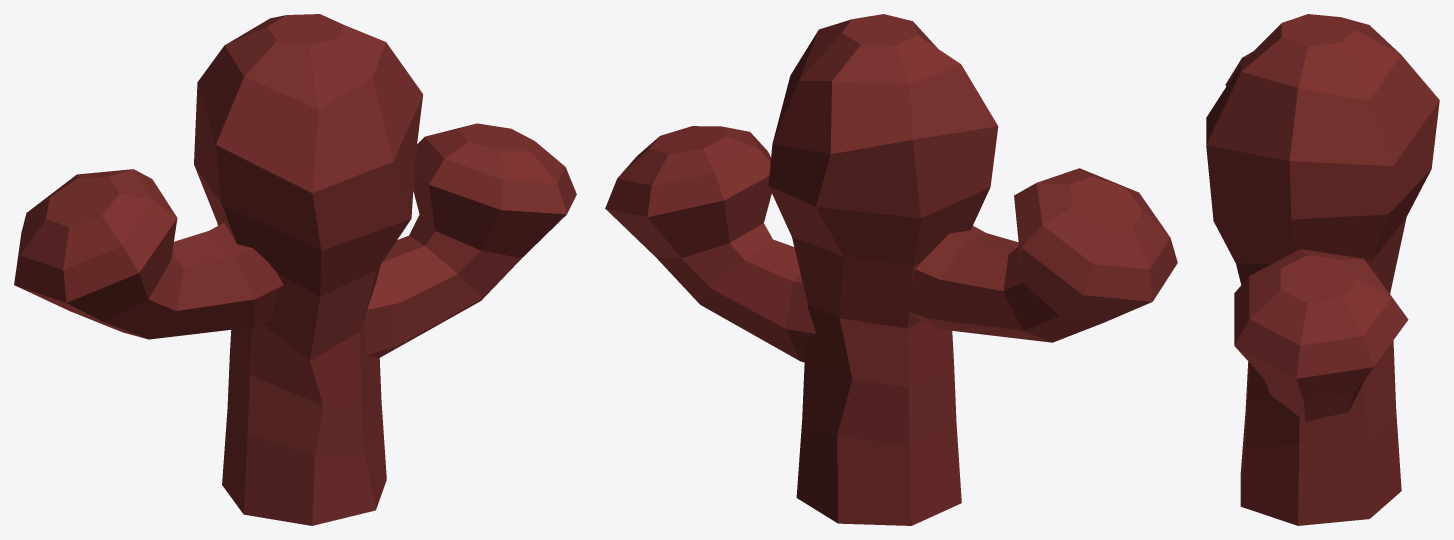
Rendered from Cactus_3_Red.fbx.
3 views of the same model, side by side, from view 1: azimuth 30°, elevation 25°; view 2: azimuth 150°, elevation 25°; view 3: azimuth 270°, elevation 25° (orthographic).
Visible parts, largest first — view 1: Cactus_3_Red; view 2: Cactus_3_Red; view 3: Cactus_3_Red.
Part boxes in pixels (<box>): Cactus_3_Red: <box>14,14,576,525</box>; Cactus_3_Red: <box>605,14,1177,525</box>; Cactus_3_Red: <box>1206,14,1439,525</box>.
Bounding box in the file's own units: 222 × 180 × 82.67.
